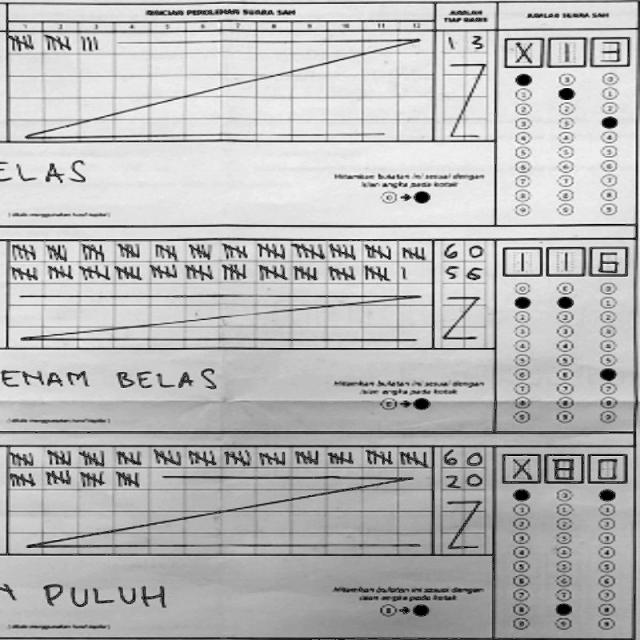Suara: (496, 448, 630, 488), (498, 240, 630, 280), (500, 32, 630, 66)
